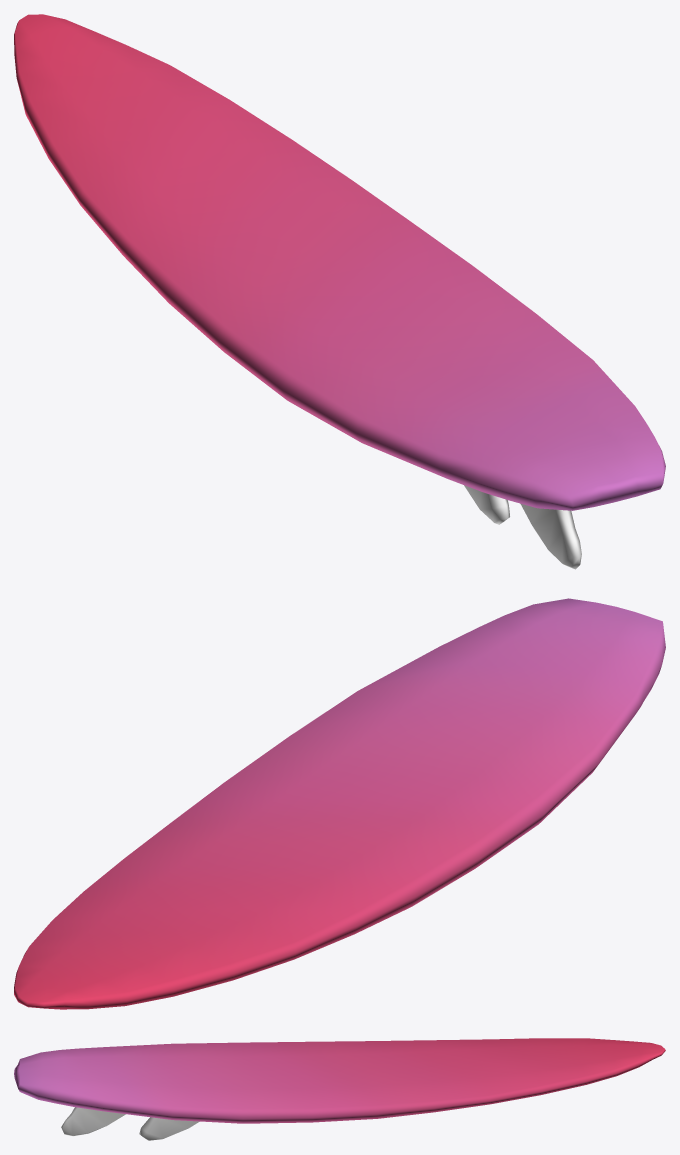
Rendered from Surfboard_Pink.fbx.
3 views of the same model, one above another, from view 1: azimuth 30°, elevation 25°; view 2: azimuth 150°, elevation 25°; view 3: azimuth 270°, elevation 25° (orthographic). The views are drawn at different scales.
Visible parts, largest first — view 1: Surfboard_Pink; view 2: Surfboard_Pink; view 3: Surfboard_Pink.
Part boxes in pixels (box(x1,y1,x2,y2)): Surfboard_Pink: box(14, 14, 665, 569); Surfboard_Pink: box(14, 598, 665, 1009); Surfboard_Pink: box(14, 1038, 665, 1140).
Bounding box in the file's own units: 64 × 38.95 × 251.
Materials: 1 (1 with a texture image).
